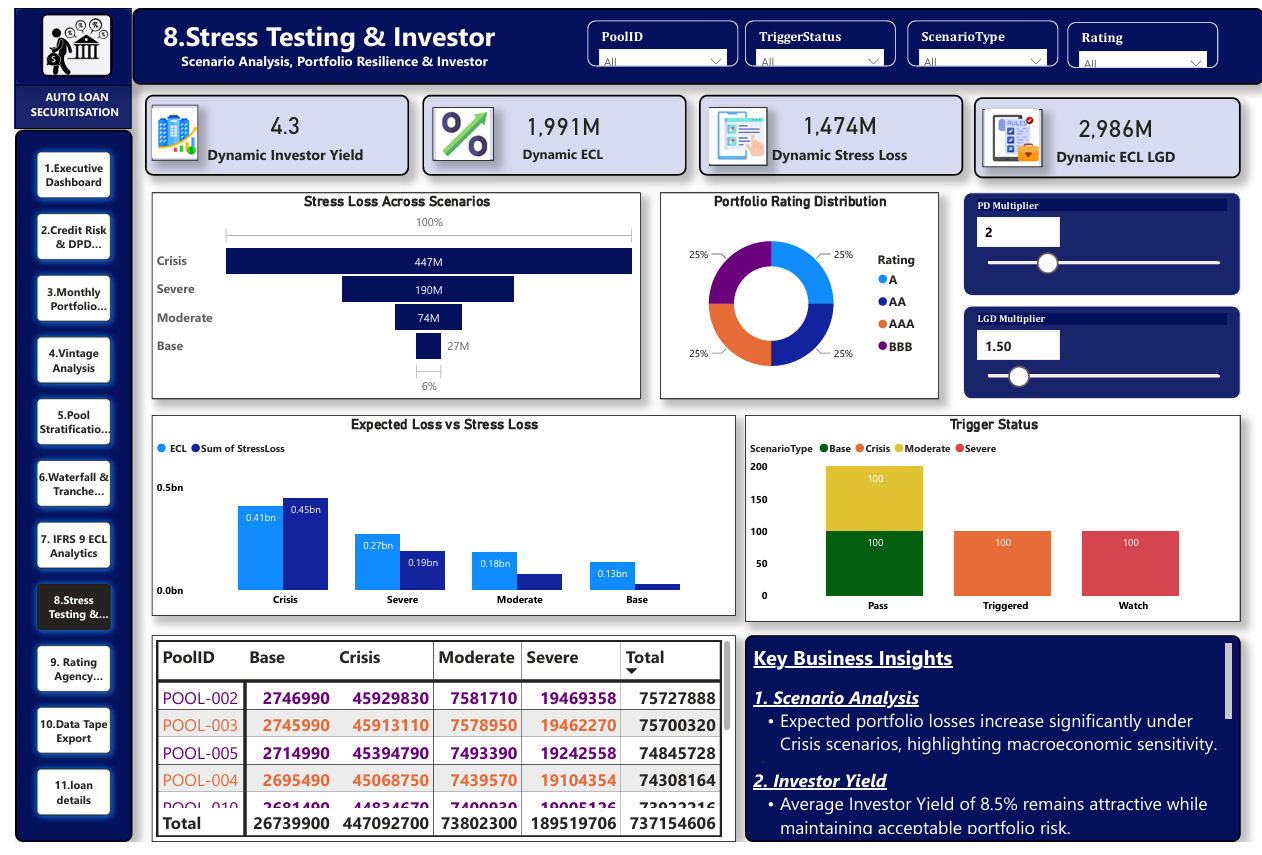

The dashboard page shown, as its layout file describes it:
{"tool":"powerbi","page":{"name":"8.Stress Testing & Investor","canvas":[1500,1000],"ordinal":7},"visuals":[{"type":"shape","box":[0,0,139.9,92.9],"z":0},{"type":"textbox","box":[140.8,0,1358.9,92.2],"z":1000},{"type":"image","box":[31.4,6,85.7,77.2],"z":2000},{"type":"textbox","box":[0,91.7,139.9,53.1],"z":3000},{"type":"slicer","fields":{"Values":["Stress_Testing_Data.ScenarioType"]},"box":[1070.7,15.1,181,55.3],"z":4000},{"type":"card","fields":{"Values":["Stress_Testing_Data.Dynamic Investor Yield"]},"box":[155.8,103.9,316.7,97.2],"z":5000},{"type":"card","fields":{"Values":["Stress_Testing_Data.Dynamic ECL"]},"box":[489.3,103.9,316.7,97.2],"z":6000},{"type":"card","fields":{"Values":["Stress_Testing_Data.Dynamic Stress Loss"]},"box":[821,103.9,316.7,97.2],"z":7000},{"type":"card","fields":{"Values":["Stress_Testing_Data.Dynamic ECL LGD"]},"box":[1151,107.2,320,97.2],"z":8000},{"type":"pageNavigator","box":[0,145.8,140.8,854.6],"z":9000},{"type":"funnel","title":"Stress Loss Across Scenarios","fields":{"Category":["Stress_Testing_Data.ScenarioType"],"Y":["Sum(Stress_Testing_Data.StressLoss)"]},"box":[164.2,221.2,586.5,248],"z":10000},{"type":"pivotTable","title":"IFRS Stage Distribution","fields":{"Rows":["Stress_Testing_Data.PoolID"],"Values":["Sum(Stress_Testing_Data.StressLoss)"],"Columns":["Stress_Testing_Data.ScenarioType"]},"box":[164.2,752.3,700.4,248],"z":11000},{"type":"clusteredColumnChart","title":"Expected Loss vs Stress Loss","fields":{"Category":["Stress_Testing_Data.ScenarioType"],"Y":["Sum(Stress_Testing_Data.ECL)","Sum(Stress_Testing_Data.StressLoss)"]},"box":[164.2,487.6,700.4,241.3],"z":12000},{"type":"columnChart","title":"Trigger Status","fields":{"Category":["Stress_Testing_Data.TriggerStatus"],"Y":["CountNonNull(Stress_Testing_Data.PoolID)"],"Series":["Stress_Testing_Data.ScenarioType"]},"box":[876.3,487.6,594.8,248],"z":13000},{"type":"donutChart","title":"Portfolio Rating Distribution","fields":{"Category":["Stress_Testing_Data.Rating"],"Y":["Sum(Stress_Testing_Data.PortfolioBalance)"]},"box":[774.1,221.2,335.1,248],"z":14000},{"type":"slicer","fields":{"Values":["Stress_Testing_Data.Rating"]},"box":[1263.4,16.8,181,55.3],"z":15000},{"type":"image","box":[164.2,115.6,55.3,67],"z":16000},{"type":"image","box":[832.8,119,70.4,70.4],"z":17000},{"type":"image","box":[1161.2,120.6,72.1,70.4],"z":18000},{"type":"image","box":[501,119,73.7,63.7],"z":19000},{"type":"textbox","box":[876,752,595,248],"z":20000},{"type":"slicer","fields":{"Values":["LGD Multiplier.LGD Multiplier"]},"box":[1137.7,356.9,333.4,112.3],"z":21000},{"type":"slicer","fields":{"Values":["PD Multiplier.PD Multiplier"]},"box":[1137.7,221.2,333.4,124],"z":22000},{"type":"slicer","fields":{"Values":["Stress_Testing_Data.TriggerStatus"]},"box":[876.3,15.1,181,55.3],"z":23000},{"type":"slicer","fields":{"Values":["Stress_Testing_Data.PoolID"]},"box":[687,15.1,181,55.3],"z":24000}]}

Visuals, with their boxes on the page's 1500x1000 design canvas (x1, y1, x2, y2). These are canvas units, not pixel positions in the 1262x855 screenshot, which may show the page scaled, cropped or inside an application window:
shape: [0,0,140,93]
textbox: [141,0,1500,92]
image: [31,6,117,83]
textbox: [0,92,140,145]
slicer - Stress_Testing_Data.ScenarioType: [1071,15,1252,70]
card - Stress_Testing_Data.Dynamic Investor Yield: [156,104,472,201]
card - Stress_Testing_Data.Dynamic ECL: [489,104,806,201]
card - Stress_Testing_Data.Dynamic Stress Loss: [821,104,1138,201]
card - Stress_Testing_Data.Dynamic ECL LGD: [1151,107,1471,204]
pageNavigator: [0,146,141,1000]
"Stress Loss Across Scenarios" funnel: [164,221,751,469]
"IFRS Stage Distribution" pivotTable: [164,752,865,1000]
"Expected Loss vs Stress Loss" clusteredColumnChart: [164,488,865,729]
"Trigger Status" columnChart: [876,488,1471,736]
"Portfolio Rating Distribution" donutChart: [774,221,1109,469]
slicer - Stress_Testing_Data.Rating: [1263,17,1444,72]
image: [164,116,220,183]
image: [833,119,903,189]
image: [1161,121,1233,191]
image: [501,119,575,183]
textbox: [876,752,1471,1000]
slicer - LGD Multiplier.LGD Multiplier: [1138,357,1471,469]
slicer - PD Multiplier.PD Multiplier: [1138,221,1471,345]
slicer - Stress_Testing_Data.TriggerStatus: [876,15,1057,70]
slicer - Stress_Testing_Data.PoolID: [687,15,868,70]
